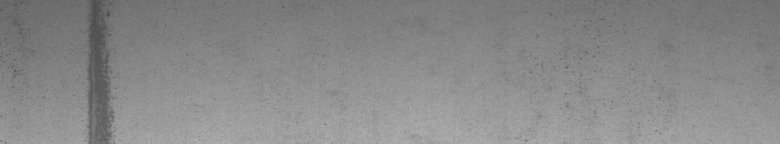hd: (81, 4, 126, 136)
